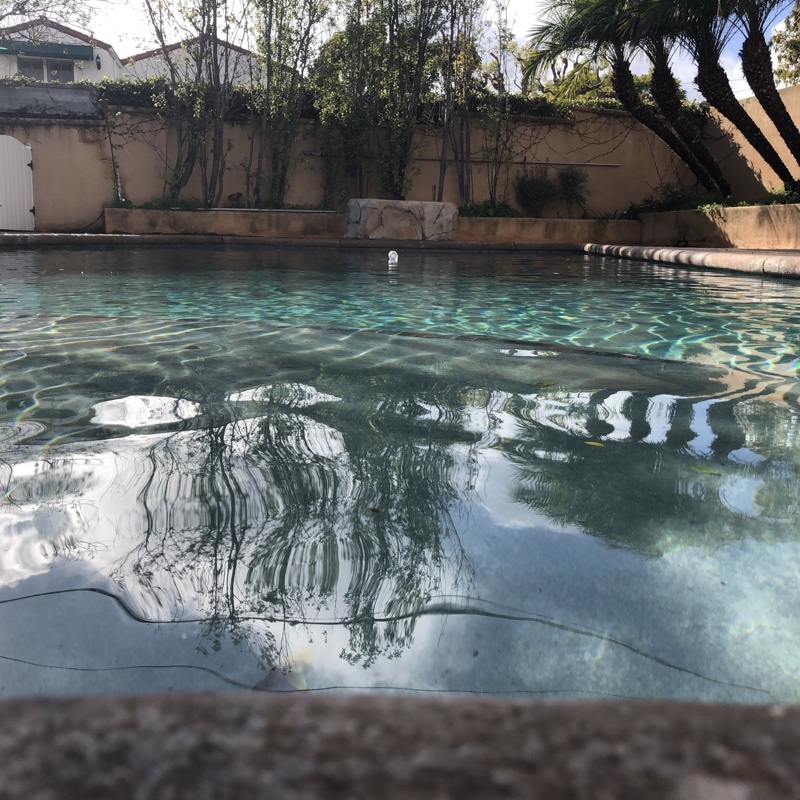Plastic Bottle: (385, 247, 398, 265)
